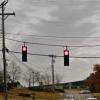Traffic light: (19, 33, 76, 76)
